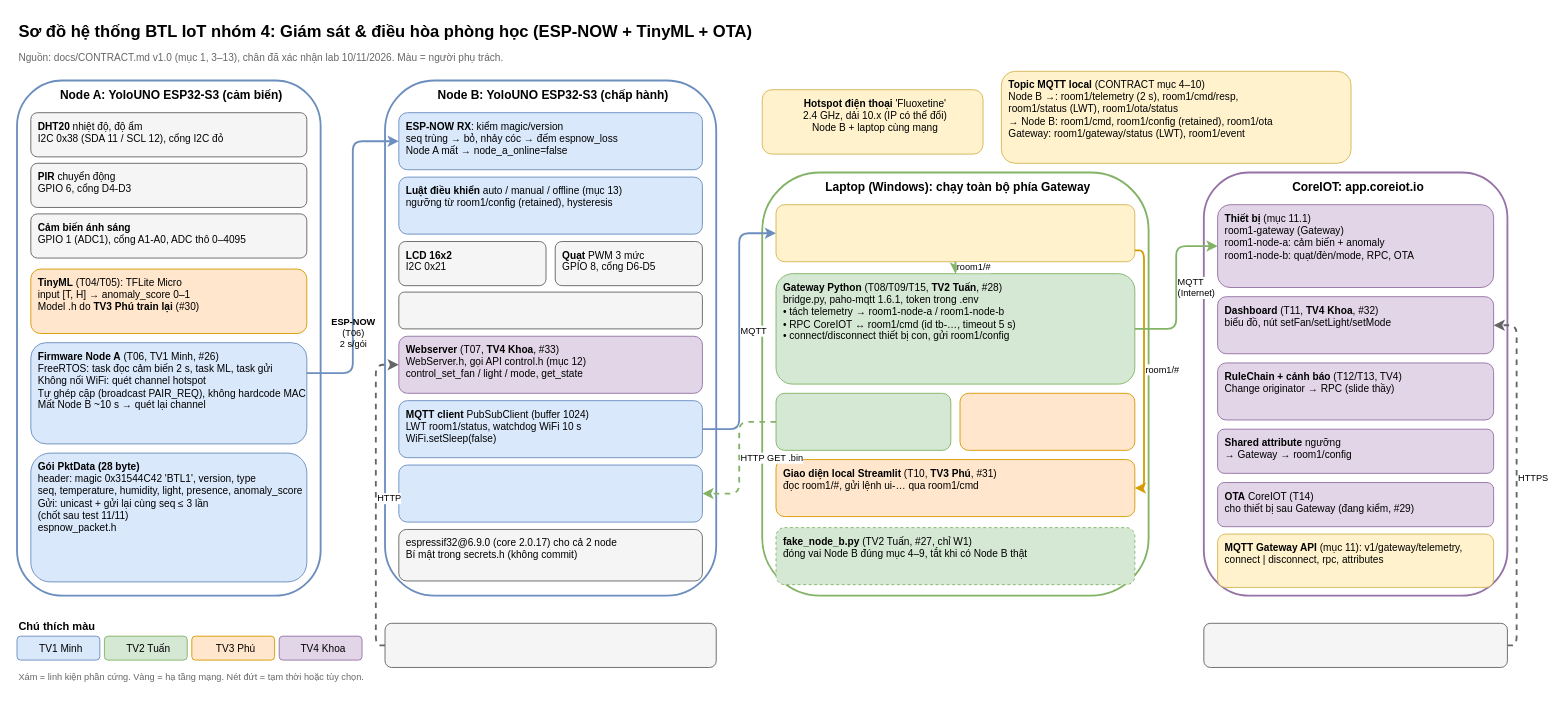
Some shapes in this 1564 by 718 pixel diagram are drawn without their labels. Each missing label, with the centre of its shape:
AI sự kiện room1/event (TV3 Phú): (1047,421)
HTTP server :8000 /fw/node_b_x.y.z.bin (OTA, #29): (863,421)
LED RGB NeoPixel ×4: GPIO 10, cổng D8-D7: (550,310)
Mosquitto broker :1883 (listener 0.0.0.0) topic local room1/#: (955,233)
Người dùng trong phòng : điện thoại vào hotspot mở http://IP-Node-B (web local): (550,644)
Người dùng từ xa : trình duyệt / app CoreIOT: (1355,644)
OTA client (T14) tải .bin qua HTTP, kiểm sha256, rollback báo room1/ota/status: (550,493)
